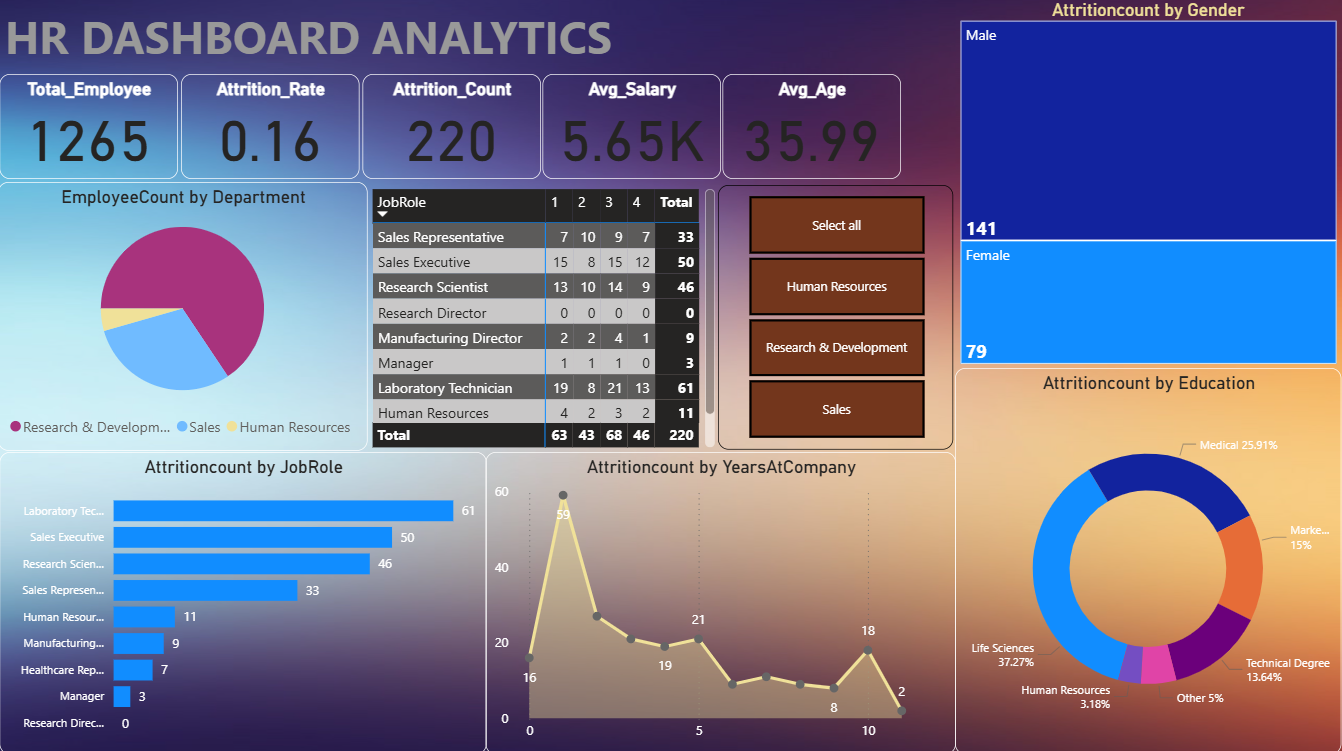

The page's visual inventory and layout, read from the dashboard file:
{"tool":"powerbi","page":{"name":"Page 1","canvas":[1280,720],"ordinal":0},"visuals":[{"type":"card","title":"Total_Employee","fields":{"Values":["HR_Analytics csv.Total_employees"]},"box":[1,71,170,100],"z":0},{"type":"card","title":"Attrition_Rate","fields":{"Values":["Avg(HR_Analytics.Attrition_Rate)"]},"box":[174,71,170,100],"z":1000},{"type":"textbox","box":[1,1,597,67],"z":2000},{"type":"pieChart","title":"EmployeeCount by Department","fields":{"Category":["HR_Analytics.Department"],"Y":["Sum(HR_Analytics.EmployeeCount)"]},"box":[0,174,352,256],"z":3000},{"type":"clusteredBarChart","title":"Attritioncount by JobRole","fields":{"Category":["HR_Analytics.JobRole"],"Y":["Sum(HR_Analytics.Attritioncount)"]},"box":[1,431,464,288],"z":4000},{"type":"card","title":"Attrition_Count","fields":{"Values":["Sum(HR_Analytics.Attritioncount)"]},"box":[347,71,170,100],"z":5000},{"type":"treemap","title":"Attritioncount by Gender","fields":{"Group":["HR_Analytics.Gender"],"Values":["Sum(HR_Analytics.Attritioncount)"]},"box":[912,0,368,352],"z":6000},{"type":"donutChart","title":"Attritioncount by Education","fields":{"Y":["Sum(HR_Analytics.Attritioncount)"],"Category":["HR_Analytics.EducationField"]},"box":[912,352,368,368],"z":7000},{"type":"pivotTable","fields":{"Rows":["HR_Analytics.JobRole"],"Columns":["HR_Analytics.JobSatisfaction"],"Values":["Sum(HR_Analytics.Attritioncount)"]},"box":[352,176,336,256],"z":8000},{"type":"card","title":"Avg_Salary","fields":{"Values":["Avg(HR_Analytics.MonthlyIncome)"]},"box":[518,71,170,100],"z":9000},{"type":"areaChart","title":"Attritioncount by YearsAtCompany","fields":{"Category":["HR_Analytics.YearsAtCompany"],"Y":["Sum(HR_Analytics.Attritioncount)"]},"box":[464,431,448,288],"z":10000},{"type":"slicer","fields":{"Values":["HR_Analytics.Department"]},"box":[686,177,224,252],"z":11000},{"type":"card","title":"Avg_Age","fields":{"Values":["Avg(HR_Analytics.Age)"]},"box":[690,71,170,100],"z":12000}]}

Visuals, with their boxes in screenshot pixels (x1, y1, x2, y2), scaled from the page's 1280x720 canvas onto the 1342x751 screenshot:
"Total_Employee" card: box(1, 74, 179, 178)
"Attrition_Rate" card: box(182, 74, 361, 178)
textbox: box(1, 1, 627, 71)
"EmployeeCount by Department" pieChart: box(0, 181, 369, 449)
"Attritioncount by JobRole" clusteredBarChart: box(1, 450, 488, 750)
"Attrition_Count" card: box(364, 74, 542, 178)
"Attritioncount by Gender" treemap: box(956, 0, 1341, 367)
"Attritioncount by Education" donutChart: box(956, 367, 1341, 750)
pivotTable - HR_Analytics.JobRole x HR_Analytics.JobSatisfaction: box(369, 184, 721, 451)
"Avg_Salary" card: box(543, 74, 721, 178)
"Attritioncount by YearsAtCompany" areaChart: box(486, 450, 956, 750)
slicer - HR_Analytics.Department: box(719, 185, 954, 447)
"Avg_Age" card: box(723, 74, 902, 178)
